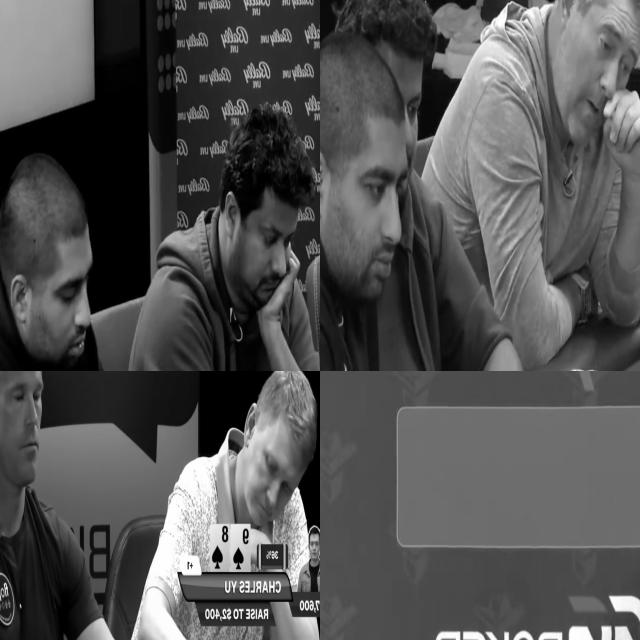8S: (211, 525, 229, 572)
9S: (230, 526, 250, 572)
